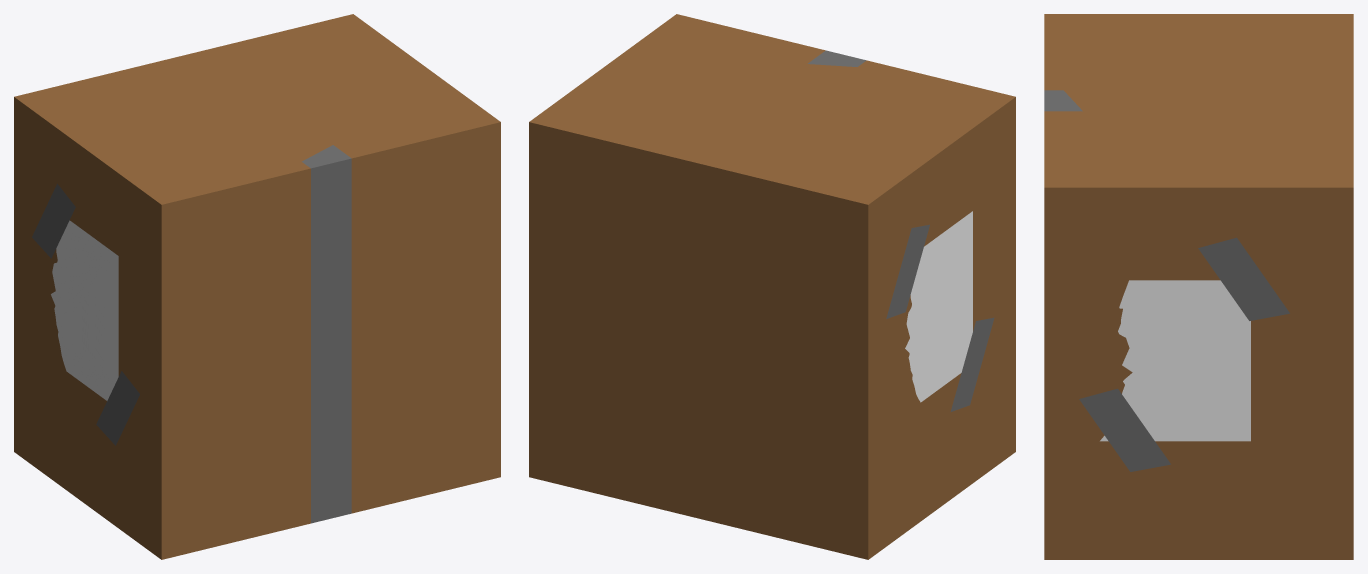
3 views of the same model, side by side, from view 1: azimuth 30°, elevation 25°; view 2: azimuth 150°, elevation 25°; view 3: azimuth 270°, elevation 25° (orthographic). The views are drawn at different scales.
Parts seen in each view (by area): view 1: cardboard box; view 2: cardboard box; view 3: cardboard box.
Part boxes in pixels (x1,y1,x2,y2): cardboard box: (14, 14, 500, 559); cardboard box: (529, 14, 1015, 559); cardboard box: (1044, 14, 1353, 559).
Bounding box in the file's own units: 1394 × 1394 × 1050.
